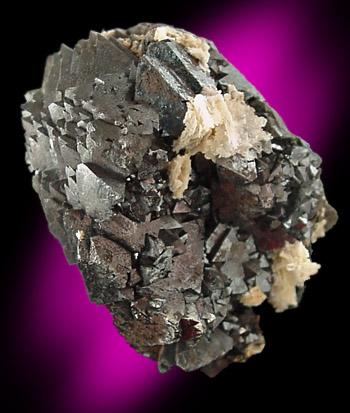magnetite: (22, 32, 338, 376)
